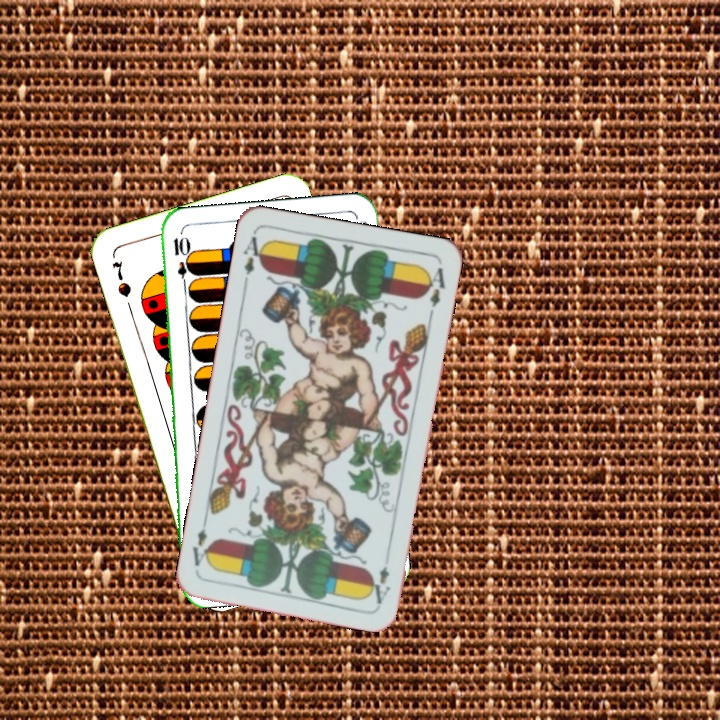E10: (169, 233, 191, 292)
EA: (239, 232, 269, 289), (370, 562, 393, 607)
S7: (108, 256, 134, 300)
